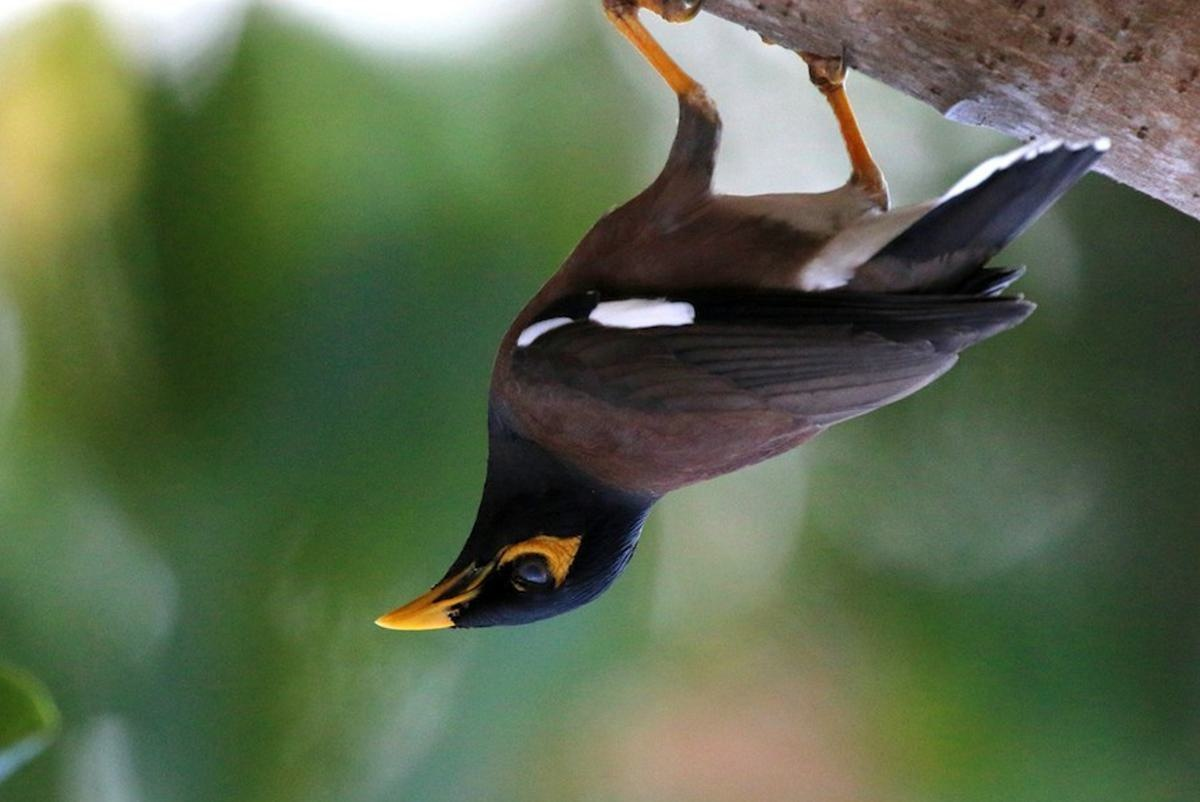myna: (375, 152, 1138, 688)
